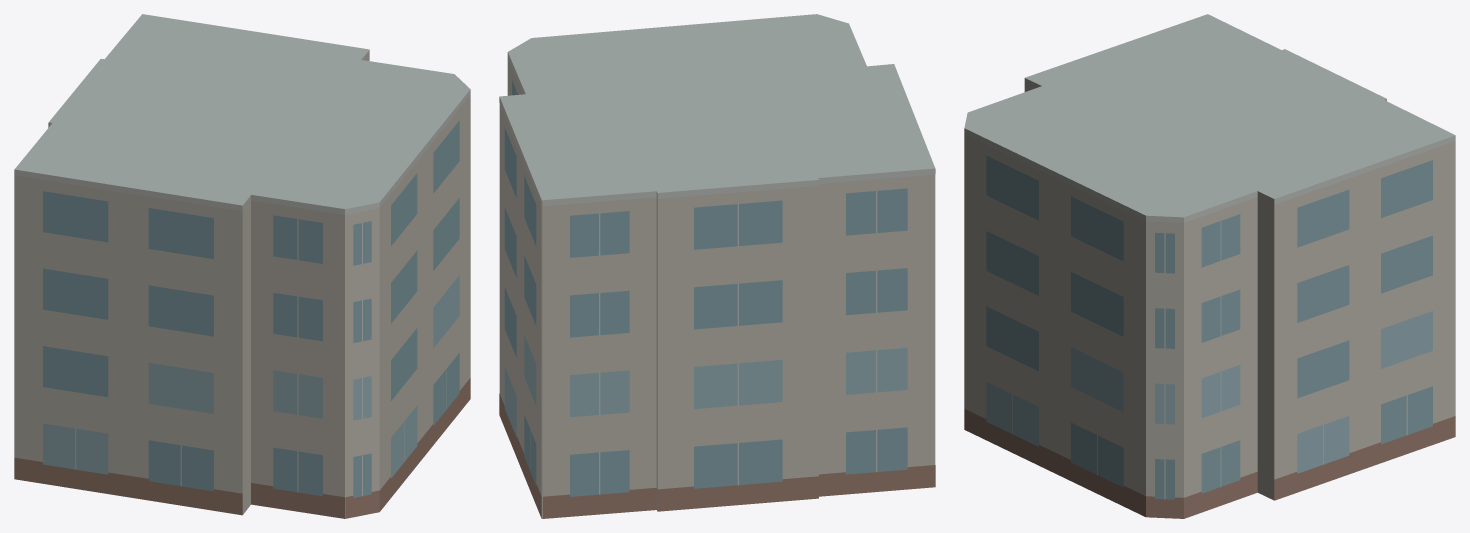
The model's file is survey-upis-32993834.glb.
3 renders of one model, left to right at view 1: azimuth 30°, elevation 25°; view 2: azimuth 150°, elevation 25°; view 3: azimuth 270°, elevation 25°, orthographic. The views are drawn at different scales.
Visible parts, largest first — view 1: survey-upis-32993834.tmp; view 2: survey-upis-32993834.tmp; view 3: survey-upis-32993834.tmp.
Part boxes in pixels (x1,y1,x2,y2): survey-upis-32993834.tmp: (14,14,470,518); survey-upis-32993834.tmp: (499,14,935,518); survey-upis-32993834.tmp: (964,14,1455,518).
Size of the model in its own units: 18.81 by 13 by 19.2.
